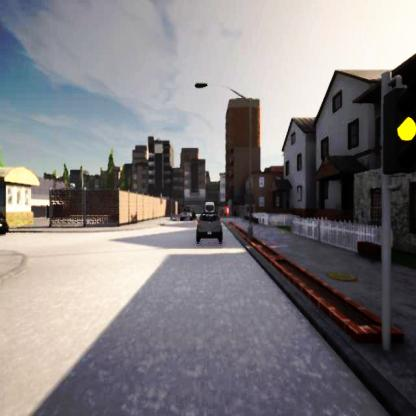vehicle: (194, 213, 224, 240)
